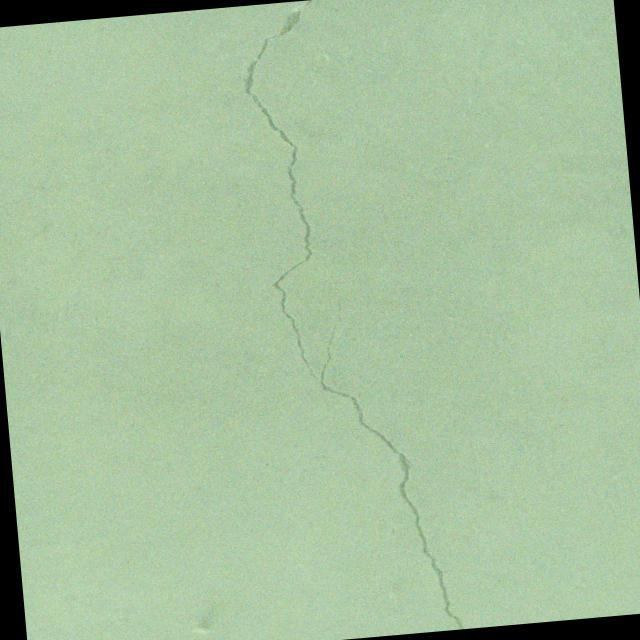crack: (200, 0, 466, 640), (54, 93, 148, 116), (0, 66, 33, 91), (146, 94, 204, 107), (44, 90, 58, 100)
